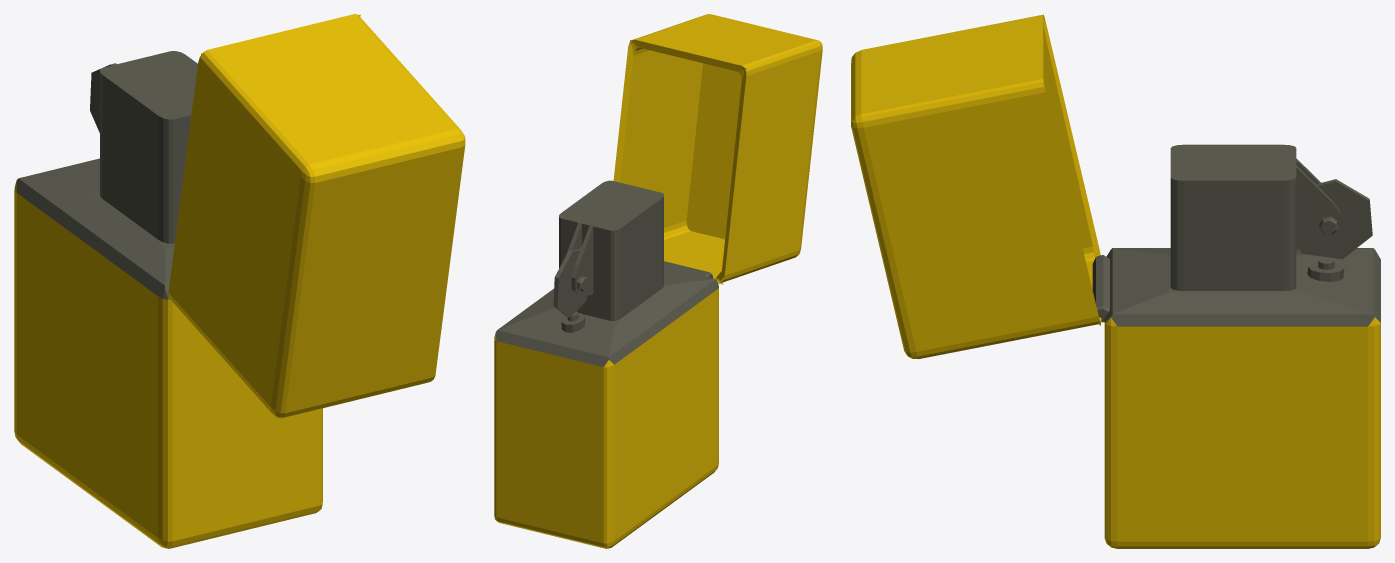
Rendered from isqueiro.fbx.
3 views of the same model, side by side, from view 1: azimuth 30°, elevation 25°; view 2: azimuth 150°, elevation 25°; view 3: azimuth 270°, elevation 25° (orthographic). The views are drawn at different scales.
Parts seen in each view (by area): view 1: tampa, isqueiro; view 2: isqueiro, tampa, rodinha; view 3: isqueiro, tampa, rodinha, rodinha2.
Boxes of the visible parts, bbox=[...] form: tampa: bbox=[168, 14, 465, 418]; isqueiro: bbox=[14, 51, 322, 548]; isqueiro: bbox=[494, 180, 718, 548]; tampa: bbox=[613, 14, 822, 284]; rodinha: bbox=[553, 248, 587, 317]; isqueiro: bbox=[1104, 144, 1380, 548]; tampa: bbox=[851, 14, 1101, 359]; rodinha: bbox=[1299, 179, 1372, 259]; rodinha2: bbox=[1092, 255, 1109, 322].
Bounding box in the file's own units: 144 × 448 × 458.
